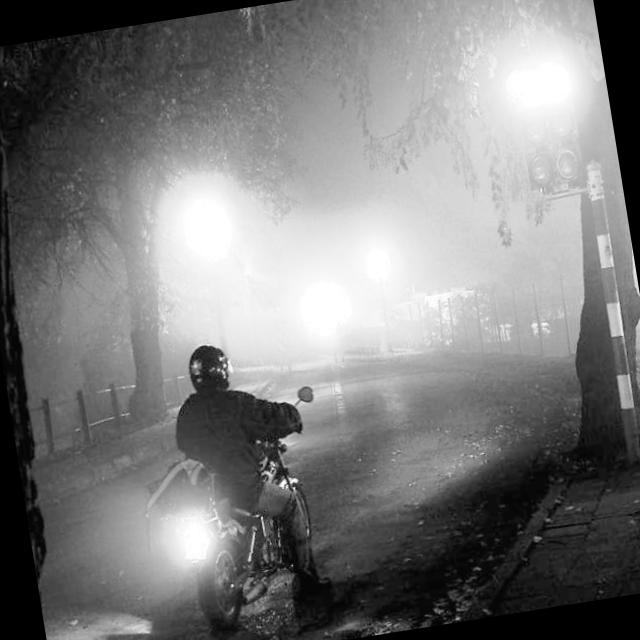Motorcycle: (143, 371, 363, 640)
